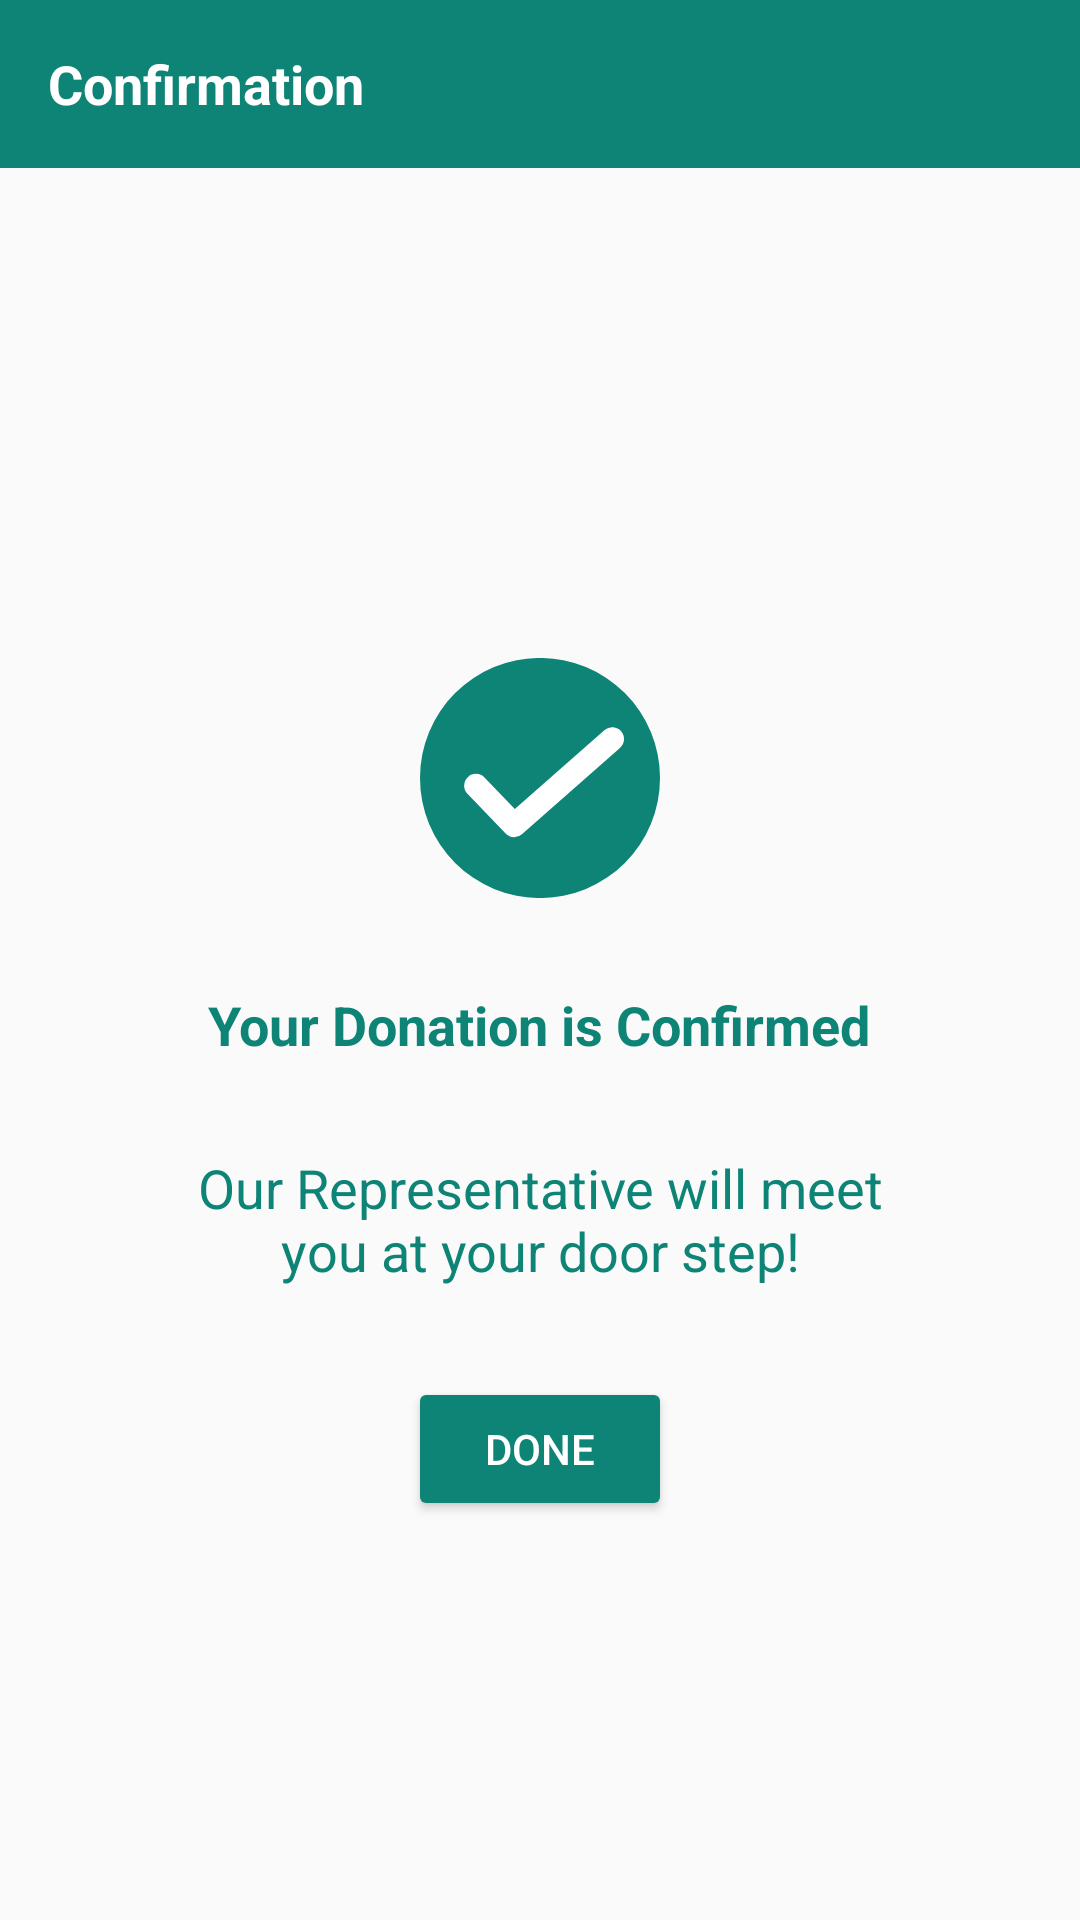

Where icons sit on this 1080x1920 app screen, as (x1, y1, x2, y2):
completed: (420, 658, 660, 898)
